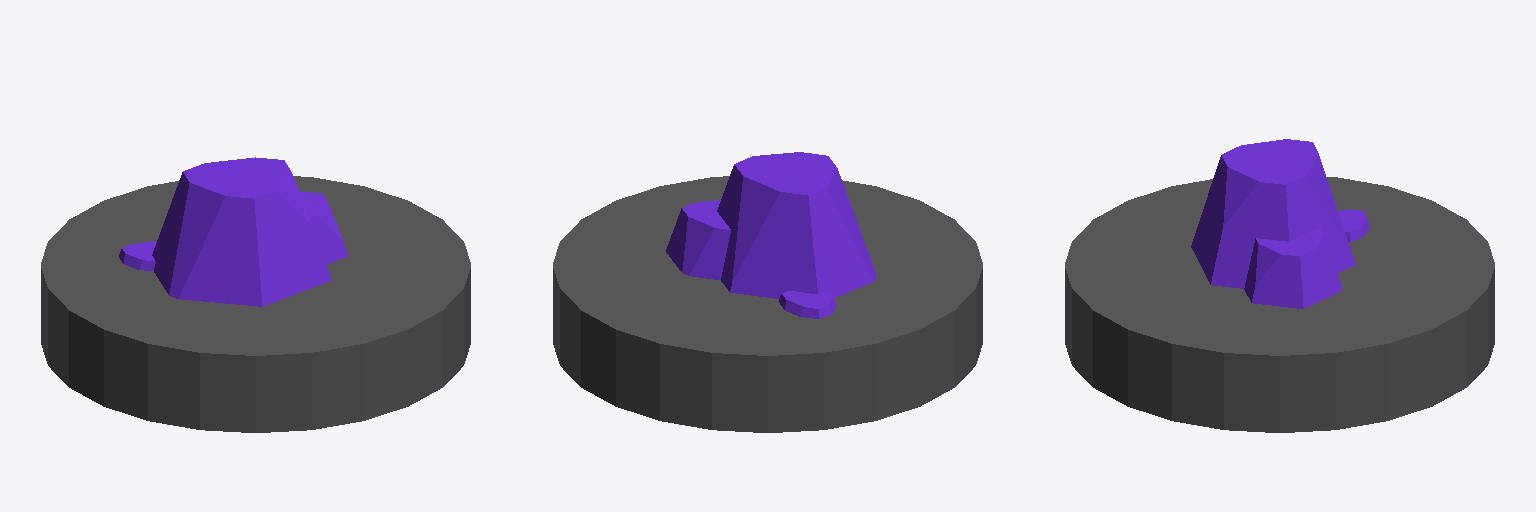
File: gems_amethyst_1.obj
3 views of the same model, side by side, from view 1: azimuth 30°, elevation 25°; view 2: azimuth 150°, elevation 25°; view 3: azimuth 270°, elevation 25° (orthographic).
Visible parts, largest first — view 1: mergedBlocks; view 2: mergedBlocks; view 3: mergedBlocks.
Boxes of the visible parts, x1=… form: mergedBlocks: x1=41, y1=157, x2=470, y2=432; mergedBlocks: x1=553, y1=152, x2=982, y2=432; mergedBlocks: x1=1065, y1=139, x2=1494, y2=432.
Bounding box in the file's own units: 1 × 0.4422 × 1.